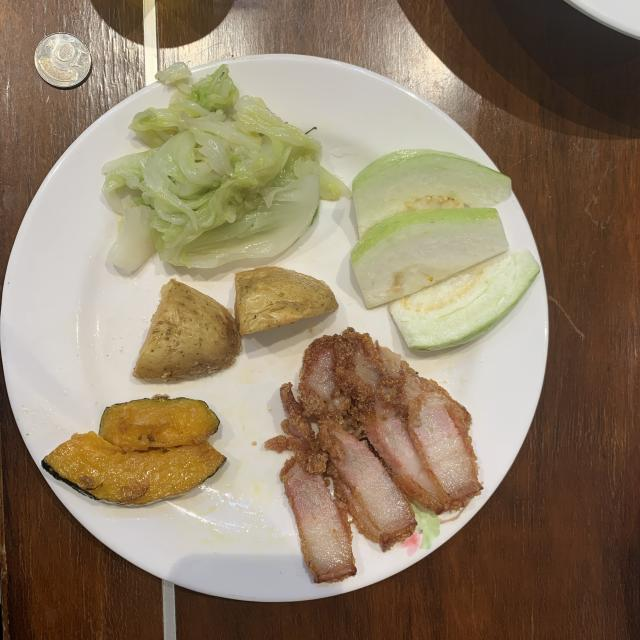cabbage: (102, 62, 350, 272)
coin: (35, 32, 91, 89)
fried potato: (132, 266, 339, 381)
guava -sliced-: (351, 150, 540, 350)
pumpkin: (41, 396, 226, 505)
red grilled pork: (265, 329, 482, 582)
